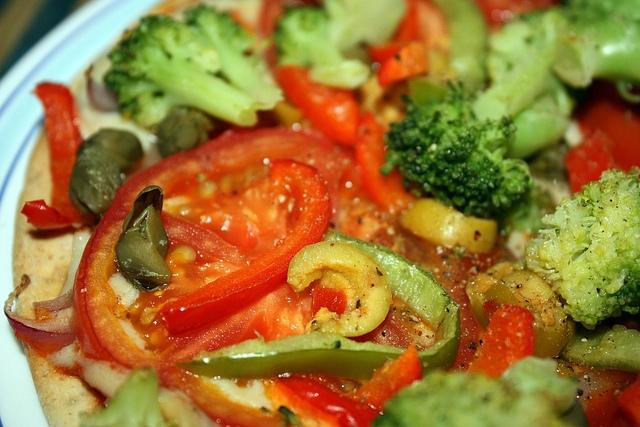broccoli: (512, 165, 640, 330), (382, 78, 535, 216), (103, 14, 258, 128), (370, 356, 588, 426), (473, 6, 575, 126), (272, 2, 408, 90), (183, 7, 285, 110), (552, 1, 638, 103), (78, 366, 180, 426), (506, 92, 572, 157)
tomato: (74, 127, 351, 374), (333, 160, 504, 374), (262, 44, 360, 146), (564, 100, 638, 194), (34, 82, 83, 218), (357, 109, 418, 216), (365, 0, 450, 73), (550, 359, 640, 427), (468, 304, 536, 378), (364, 344, 422, 412), (477, 0, 559, 31), (379, 38, 429, 88), (258, 0, 321, 37), (616, 375, 640, 427)
